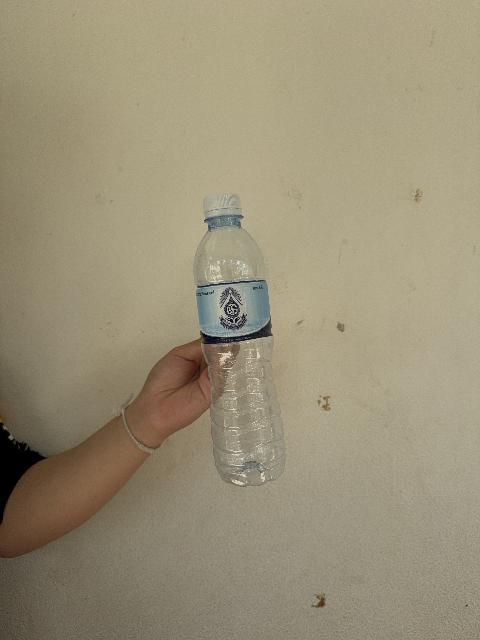bottle: (193, 194, 284, 486)
